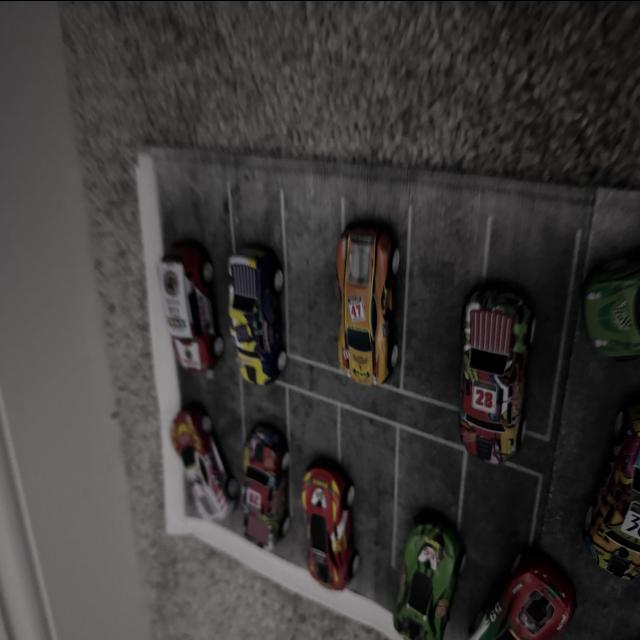car: (328, 172, 441, 406), (432, 282, 548, 472), (168, 160, 252, 393), (565, 210, 640, 398), (582, 404, 640, 626), (377, 510, 473, 640), (228, 234, 304, 395), (486, 526, 592, 640), (233, 392, 302, 564), (311, 460, 370, 640), (177, 388, 228, 550)
